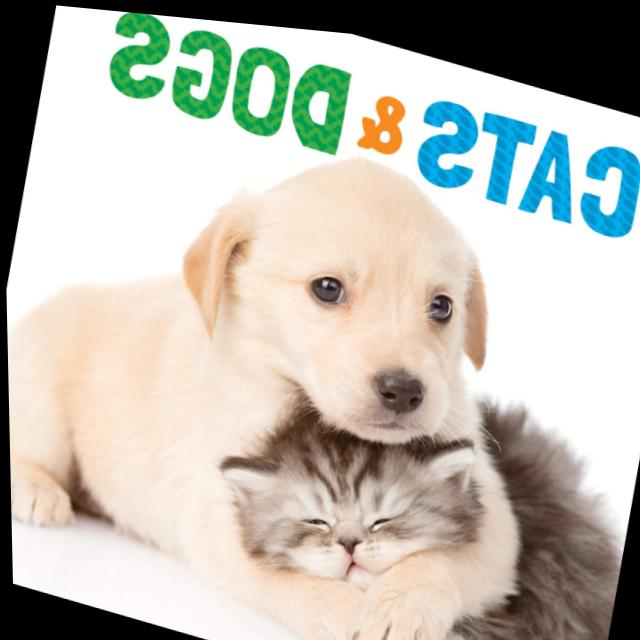Cat: (197, 366, 493, 620)
Dog: (1, 69, 599, 640)
